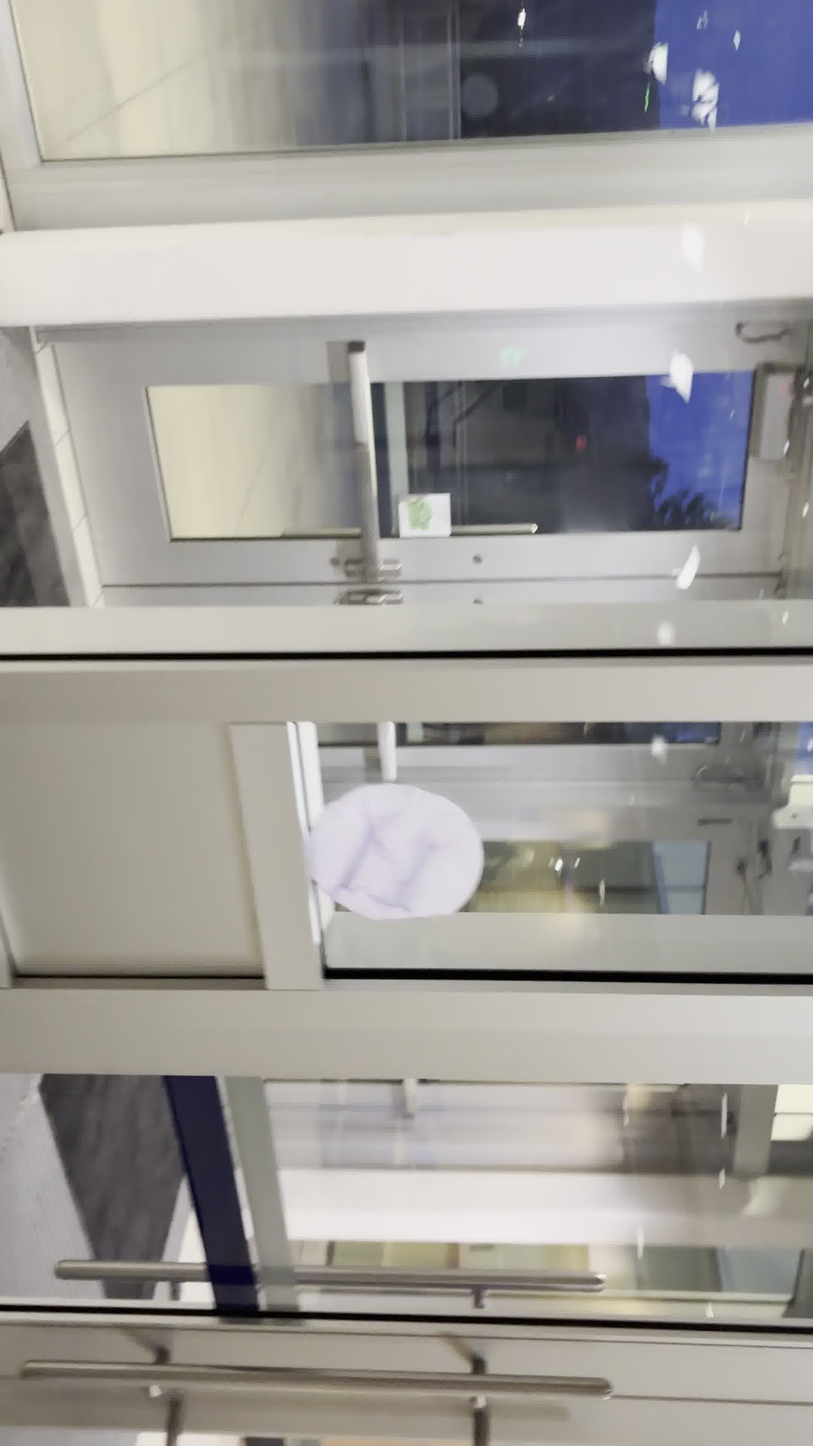Target: (300, 782, 489, 926)
